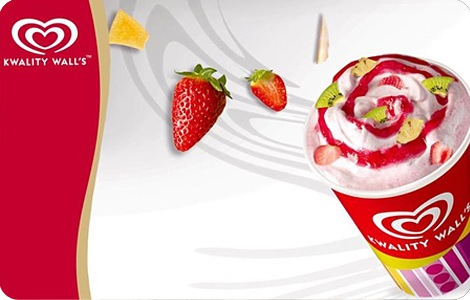Kwality_Walls: (1, 15, 94, 73), (362, 194, 461, 246)
